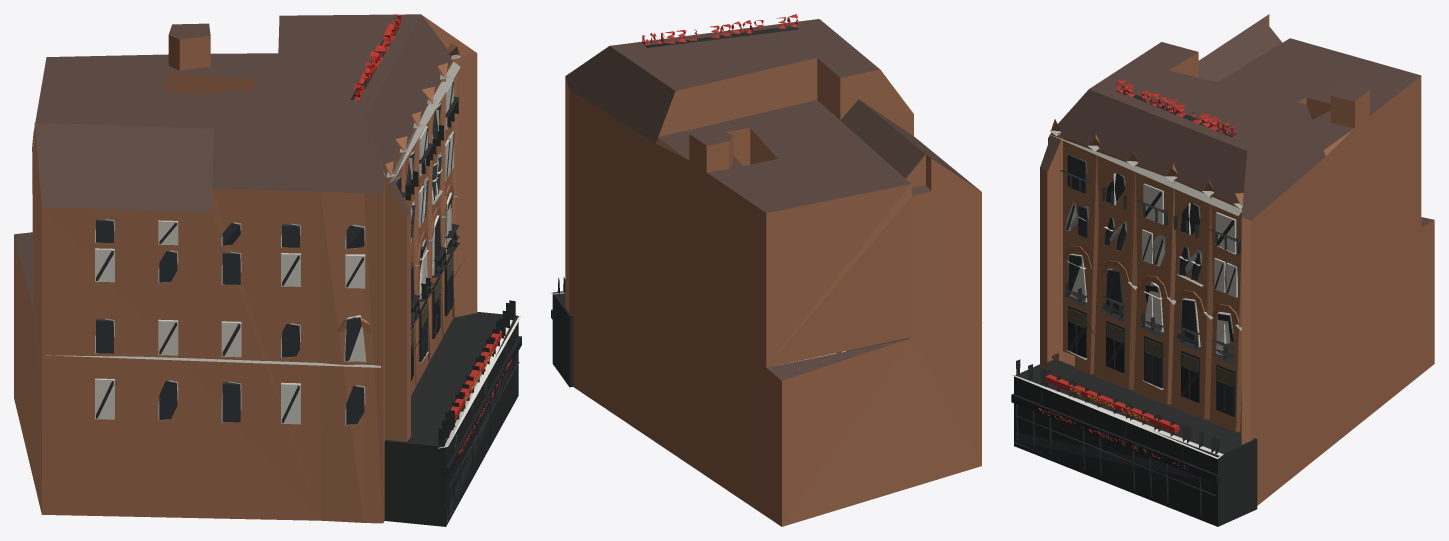
File: roode-leeuw-damrak.lod1.glb
3 renders of one model, left to right at view 1: azimuth 30°, elevation 25°; view 2: azimuth 150°, elevation 25°; view 3: azimuth 270°, elevation 25°, orthographic. The views are drawn at different scales.
Parts seen in each view (by area): view 1: roode-leeuw-damrak; view 2: roode-leeuw-damrak; view 3: roode-leeuw-damrak.
Boxes of the visible parts, left/top/right/bottom form: roode-leeuw-damrak: left=14, top=14, right=521, bottom=526; roode-leeuw-damrak: left=550, top=14, right=982, bottom=526; roode-leeuw-damrak: left=1011, top=14, right=1434, bottom=526.
Bounding box in the file's own units: 28.09 × 22.45 × 24.35.
